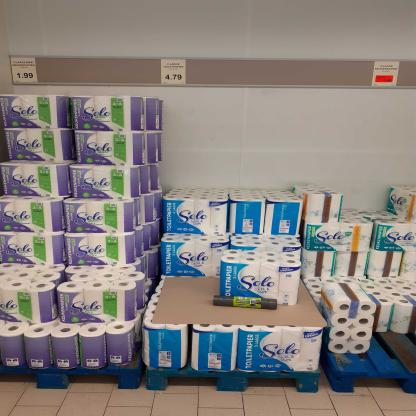prtg: (11, 59, 39, 83), (373, 63, 401, 87), (162, 60, 187, 85)
